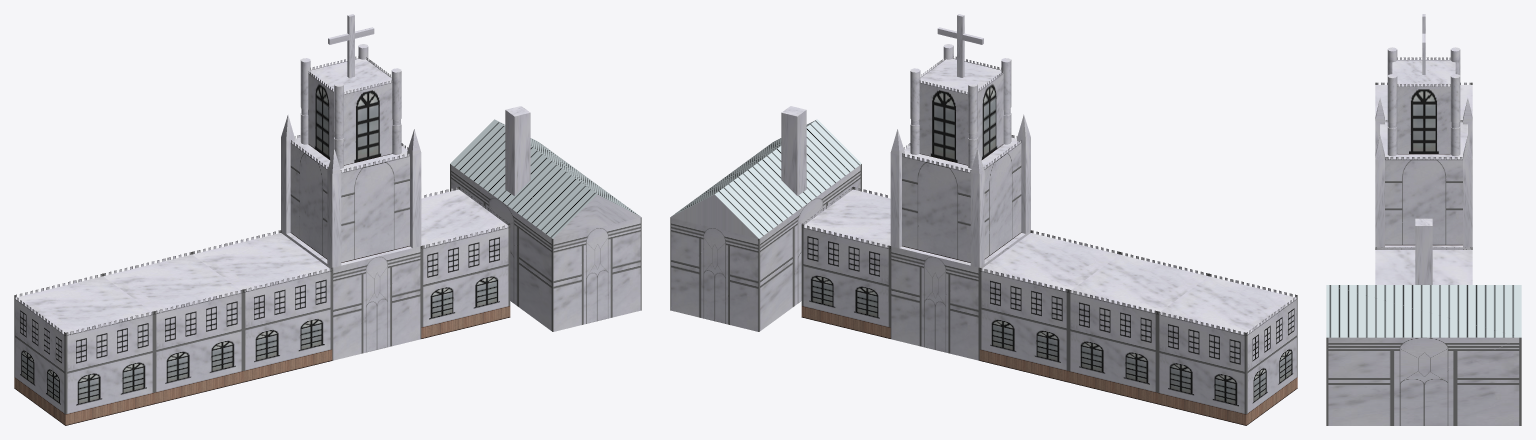
The model's file is sakurachurch.fbx.
The picture shows the model from 3 angles, left to right: view 1: azimuth 30°, elevation 25°; view 2: azimuth 150°, elevation 25°; view 3: azimuth 270°, elevation 25°; orthographic projection. The views are drawn at different scales.
Visible parts, largest first — view 1: sakurachurch; view 2: sakurachurch; view 3: sakurachurch.
Boxes of the visible parts, <box> form: sakurachurch: <box>14,14,641,425</box>; sakurachurch: <box>670,14,1297,425</box>; sakurachurch: <box>1326,14,1521,425</box>.
Bounding box in the file's own units: 619 × 347 × 200.
